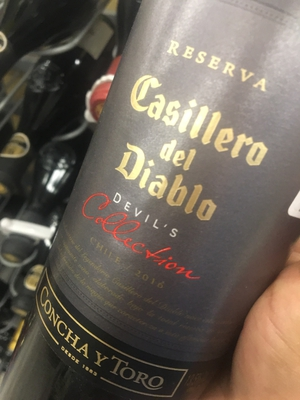casillero del diablo devils collection rojo: (56, 9, 300, 384)
